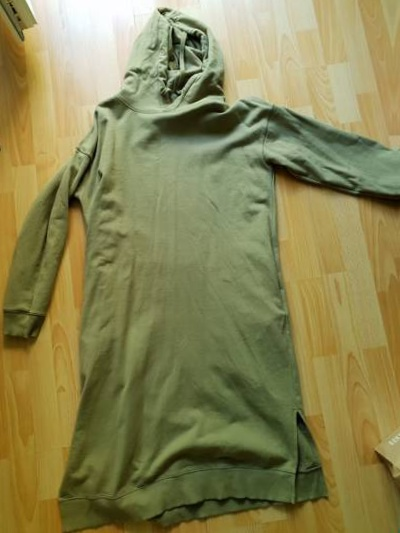Hoodie: (0, 11, 400, 533), (395, 1, 400, 530)
